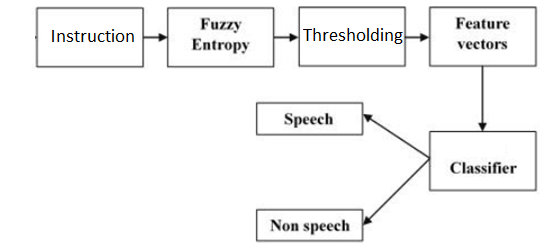arrow: (362, 156, 429, 225), (362, 111, 427, 157), (475, 65, 487, 131), (144, 32, 167, 42), (274, 33, 299, 42), (404, 33, 428, 42)
process: (34, 5, 146, 70), (296, 5, 408, 70), (427, 128, 539, 193), (428, 4, 539, 69), (165, 5, 277, 69), (253, 100, 366, 138), (254, 208, 364, 243)
text: (189, 16, 250, 55), (453, 16, 511, 53), (303, 27, 403, 46), (49, 27, 136, 46), (268, 218, 349, 234), (450, 160, 518, 179), (283, 111, 336, 128)
